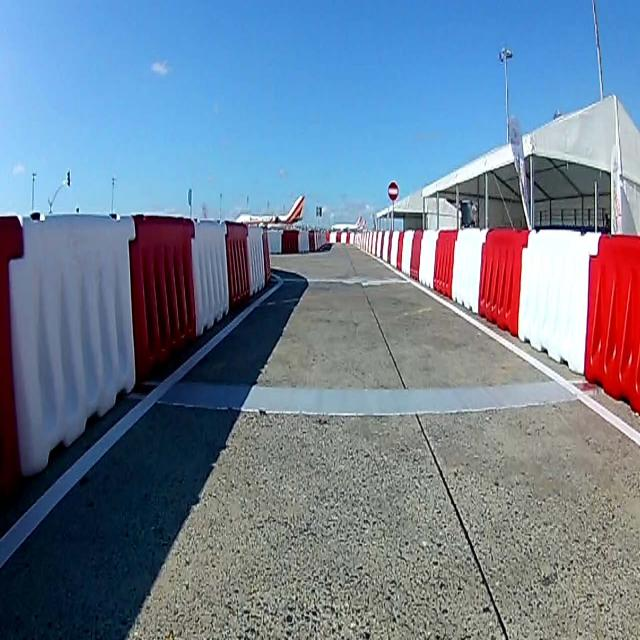girisyok: (387, 181, 399, 202)
